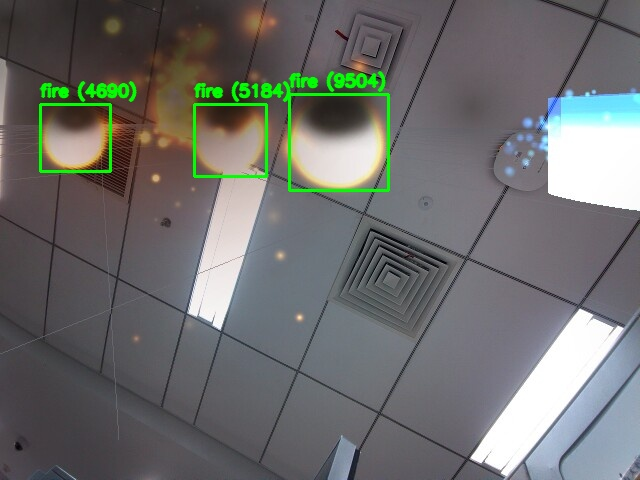fire: (289, 94, 388, 190), (194, 104, 266, 176), (40, 104, 110, 171)
